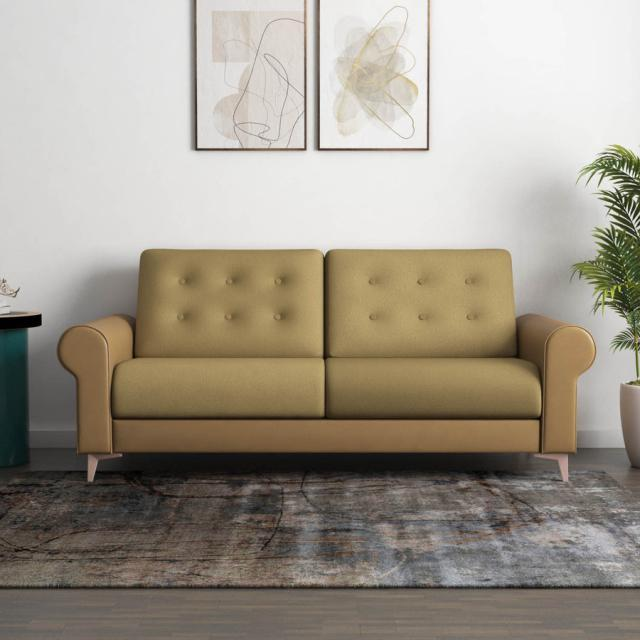sofa: (56, 246, 596, 484)
